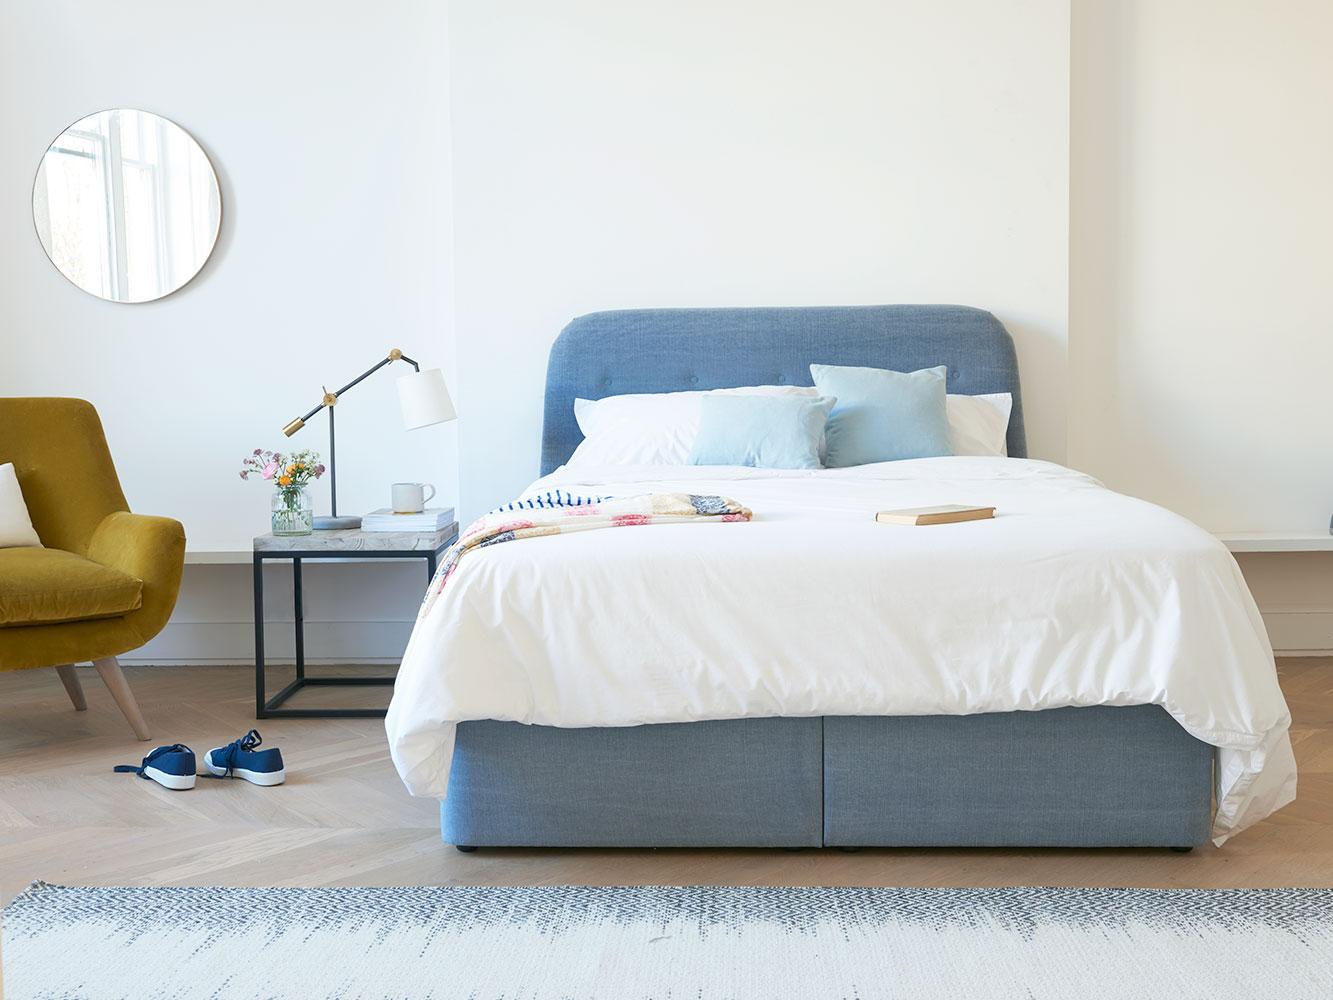bed: (437, 268, 1223, 822)
